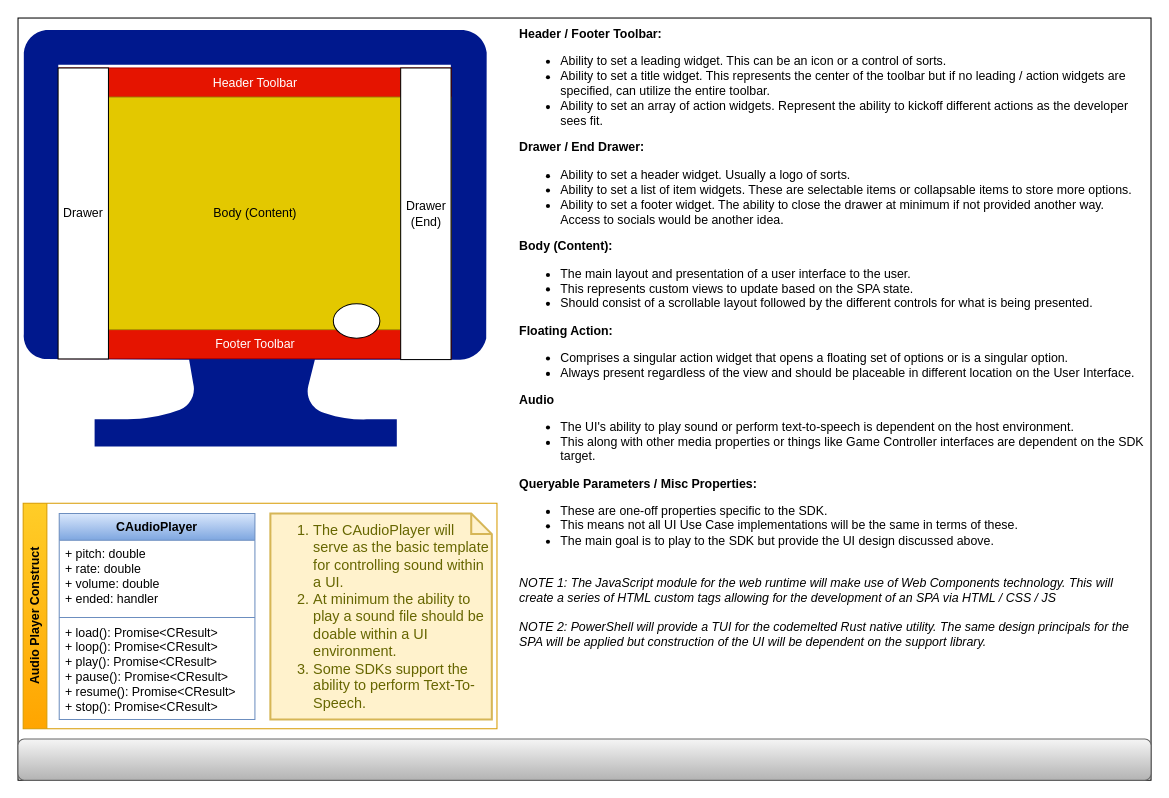
The diagram is 1169 pixels wide and 798 high, and some of its shapes have lost their labels. The shapes that lost their labels are listed below. From the top down, each one's centre as x and y in pixels, then its label:
pixel 356 320: Floating Action
pixel 584 759: SPA Design Goals
